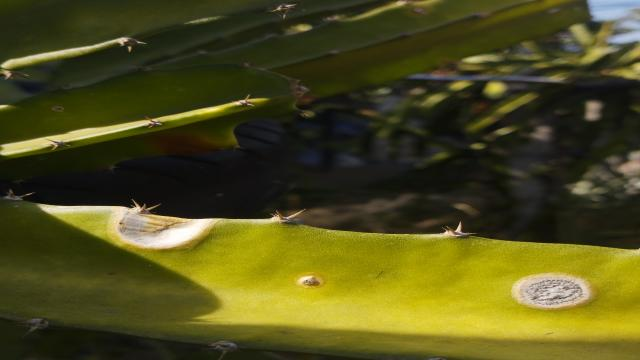stemcanker: (289, 271, 328, 292)
